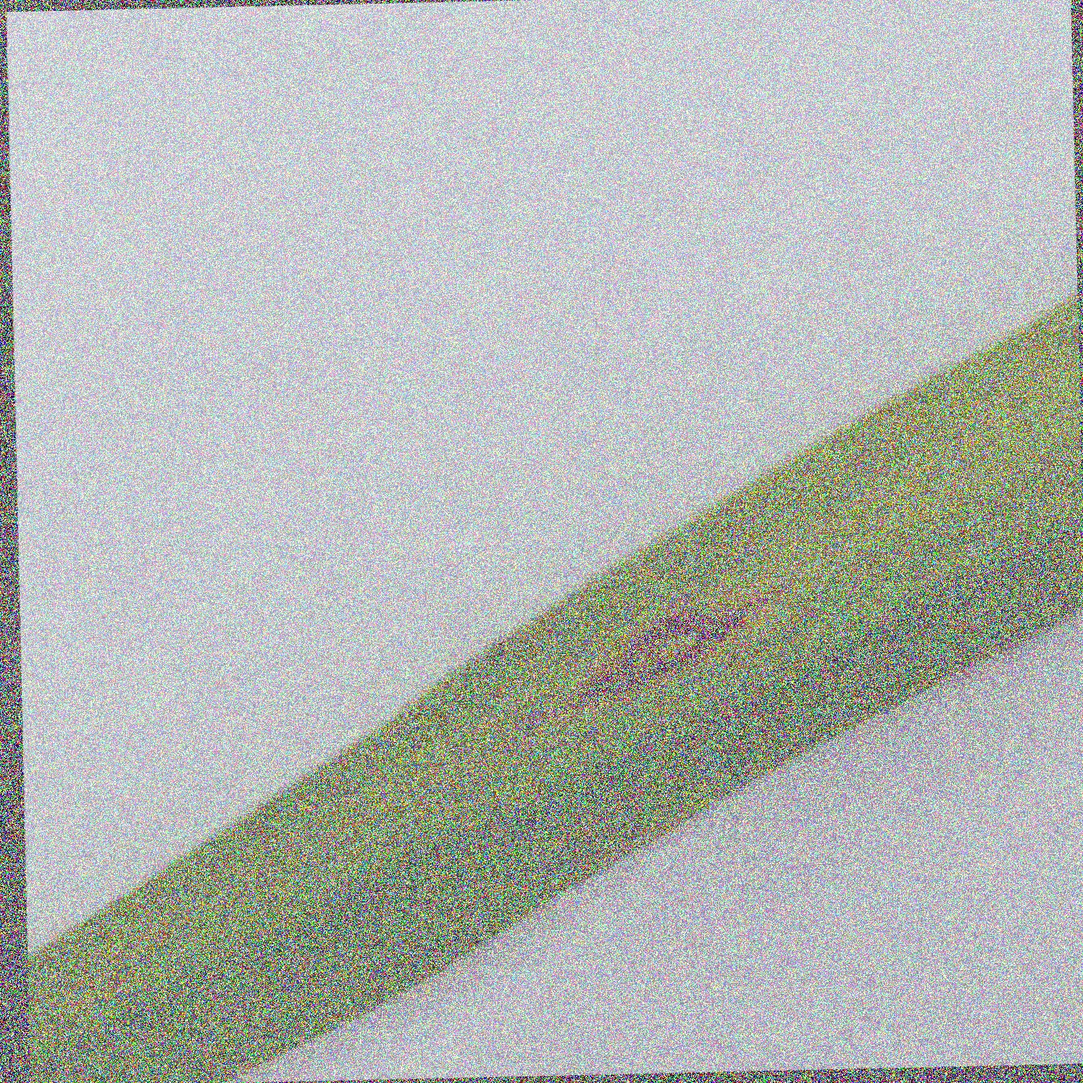Brown_Spot: (488, 476, 824, 771)
